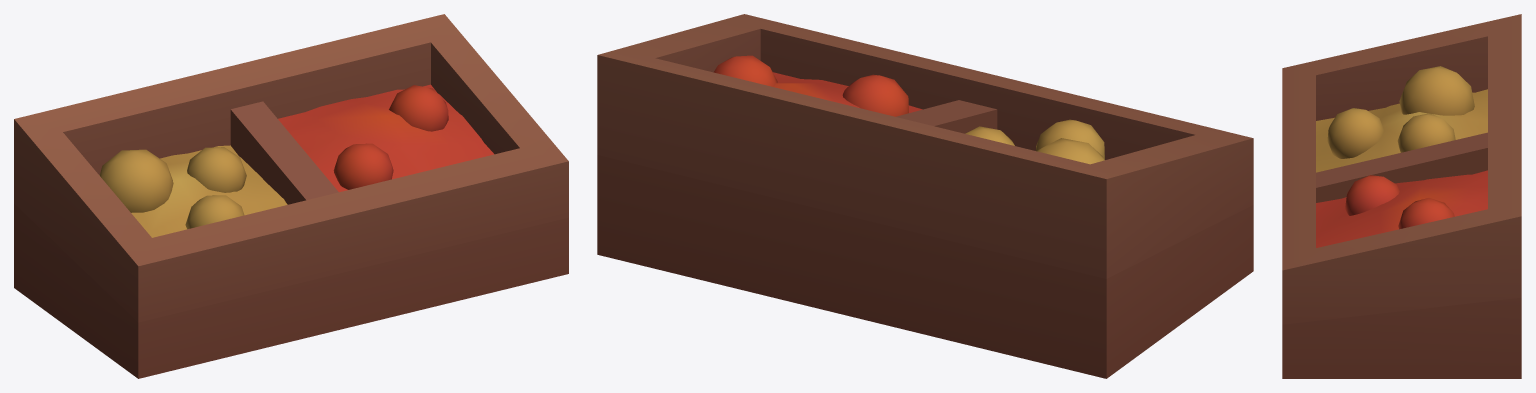
The model's file is H_crate_long_A.glb.
3 renders of one model, left to right at view 1: azimuth 30°, elevation 25°; view 2: azimuth 150°, elevation 25°; view 3: azimuth 270°, elevation 25°, orthographic. The views are drawn at different scales.
Parts seen in each view (by area): view 1: crate_long_A; view 2: crate_long_A; view 3: crate_long_A.
Boxes of the visible parts, x1,y1,x2,y2 form: crate_long_A: (14, 14, 568, 378); crate_long_A: (597, 14, 1253, 378); crate_long_A: (1282, 14, 1521, 378).
Size of the model in its own units: 0.4 by 0.15 by 0.2.
